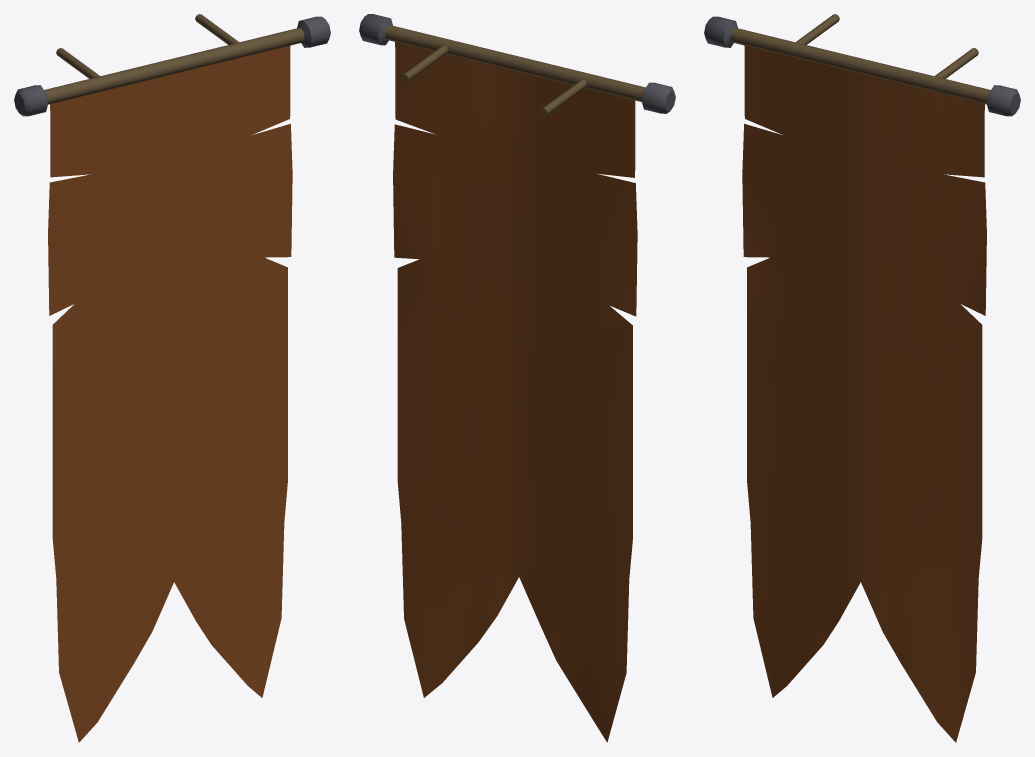
The model's file is Flag_Wall2.glb.
3 views of the same model, side by side, from view 1: azimuth 30°, elevation 25°; view 2: azimuth 150°, elevation 25°; view 3: azimuth 330°, elevation 25° (orthographic).
Parts seen in each view (by area): view 1: Flag_Wall2; view 2: Flag_Wall2; view 3: Flag_Wall2.
Part boxes in pixels (left/top/right/bottom): Flag_Wall2: left=14, top=14, right=330, bottom=742; Flag_Wall2: left=359, top=14, right=675, bottom=742; Flag_Wall2: left=704, top=14, right=1020, bottom=742.
Bounding box in the file's own units: 0.5633 × 1.18 × 0.1612.
